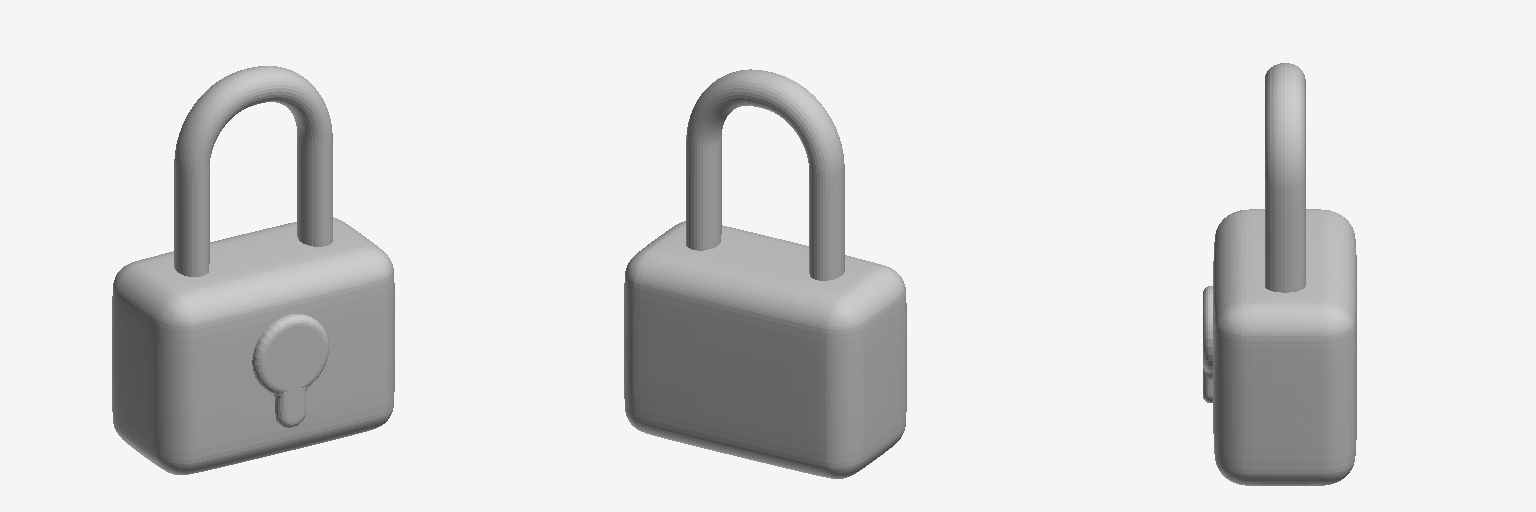
The model's file is padlock-lock.obj.
3 views of the same model, side by side, from view 1: azimuth 30°, elevation 25°; view 2: azimuth 150°, elevation 25°; view 3: azimuth 270°, elevation 25° (orthographic).
Visible parts, largest first — view 1: Vert; view 2: Vert; view 3: Vert.
Boxes of the visible parts, x1=… form: Vert: x1=112, y1=66, x2=394, y2=474; Vert: x1=624, y1=69, x2=906, y2=478; Vert: x1=1203, y1=63, x2=1356, y2=485.
Size of the model in its own units: 1.48 by 2.18 by 0.8324.